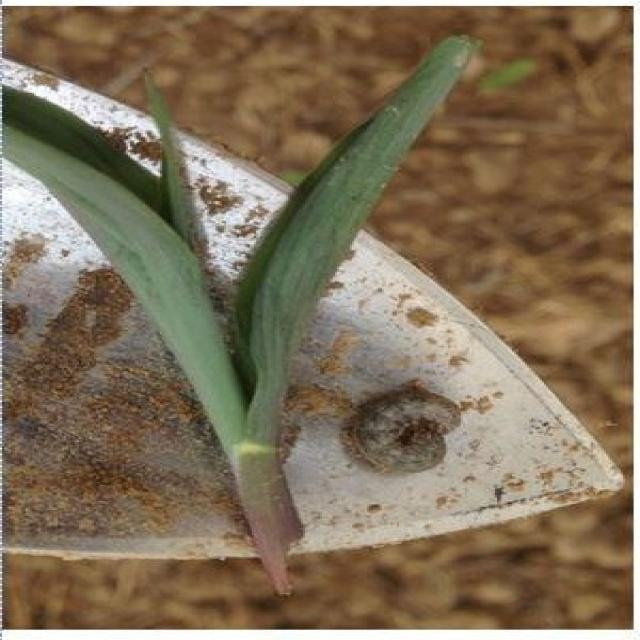black cutworm: (331, 388, 474, 480)
